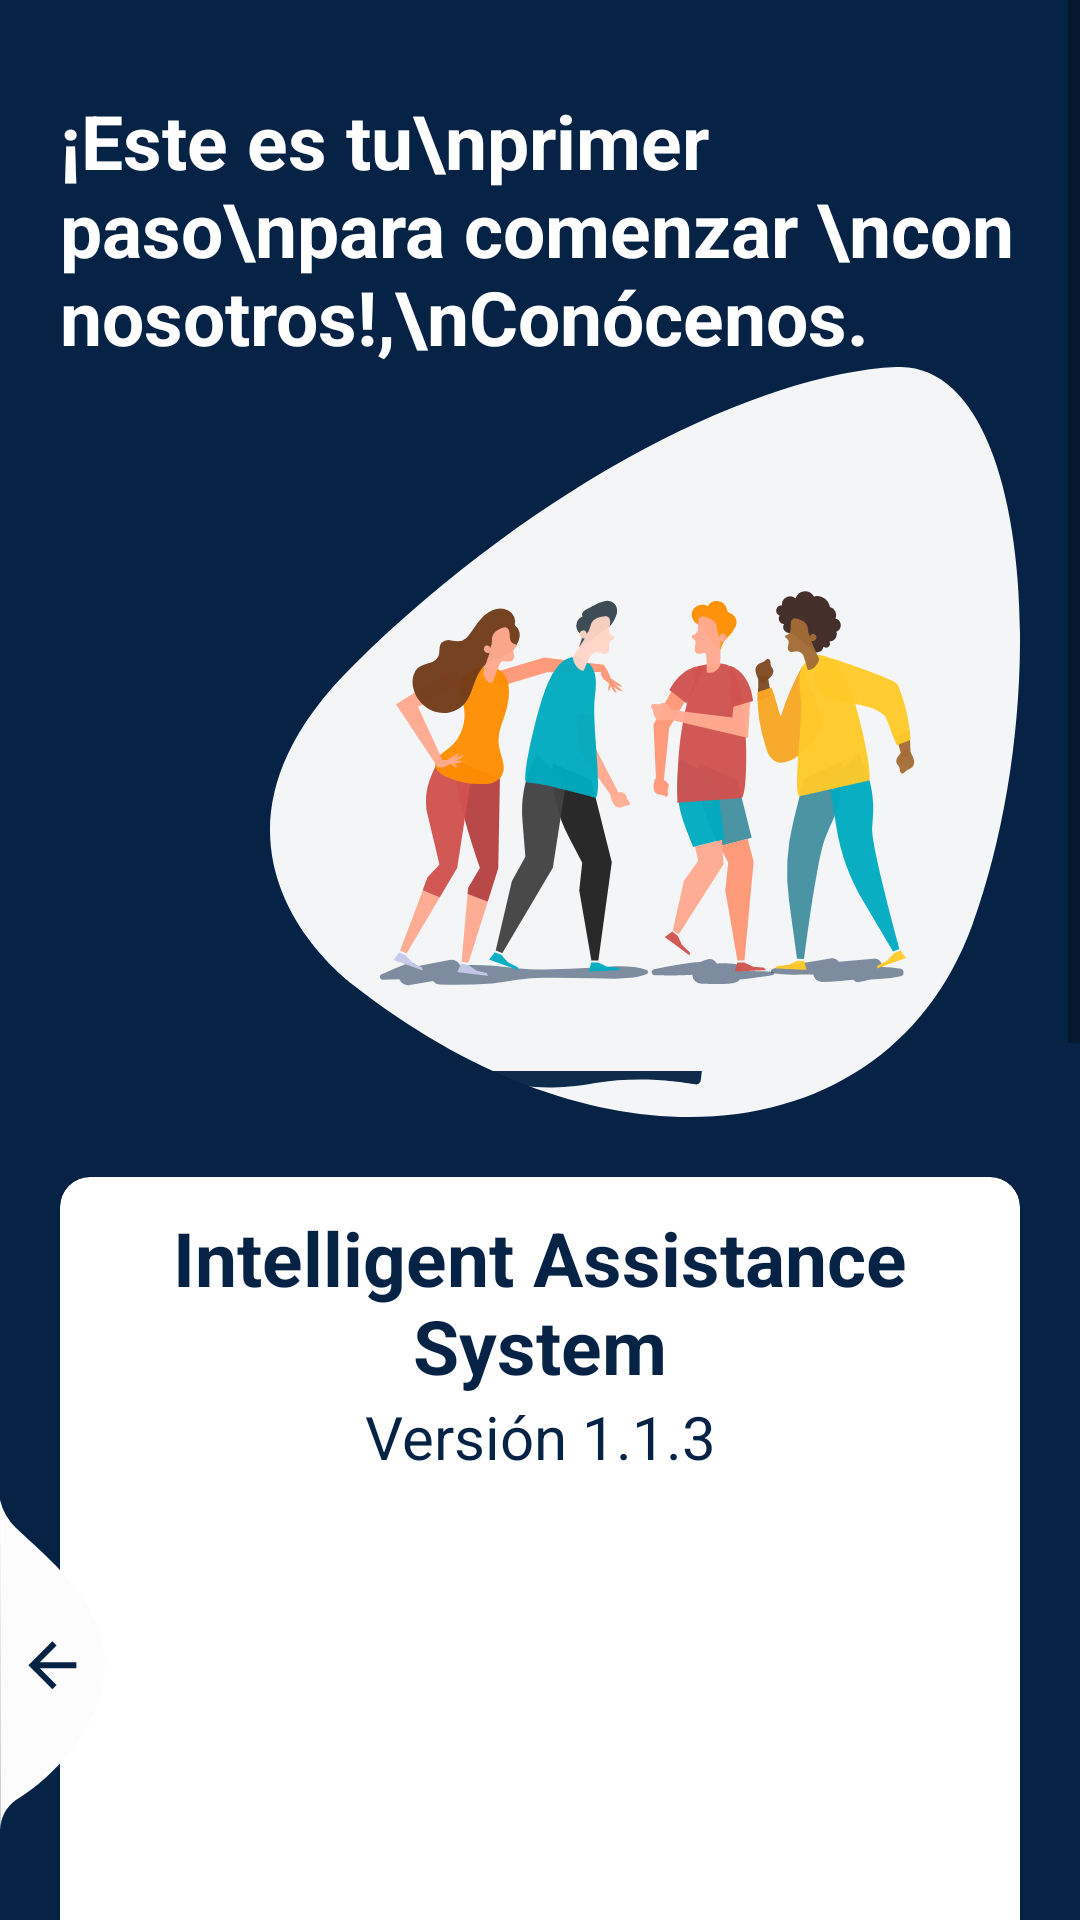

Icons on this 1080*1920 Android screen, each with its box as (x1, y1, x2, y2):
back: (0, 1500, 77, 1830)
